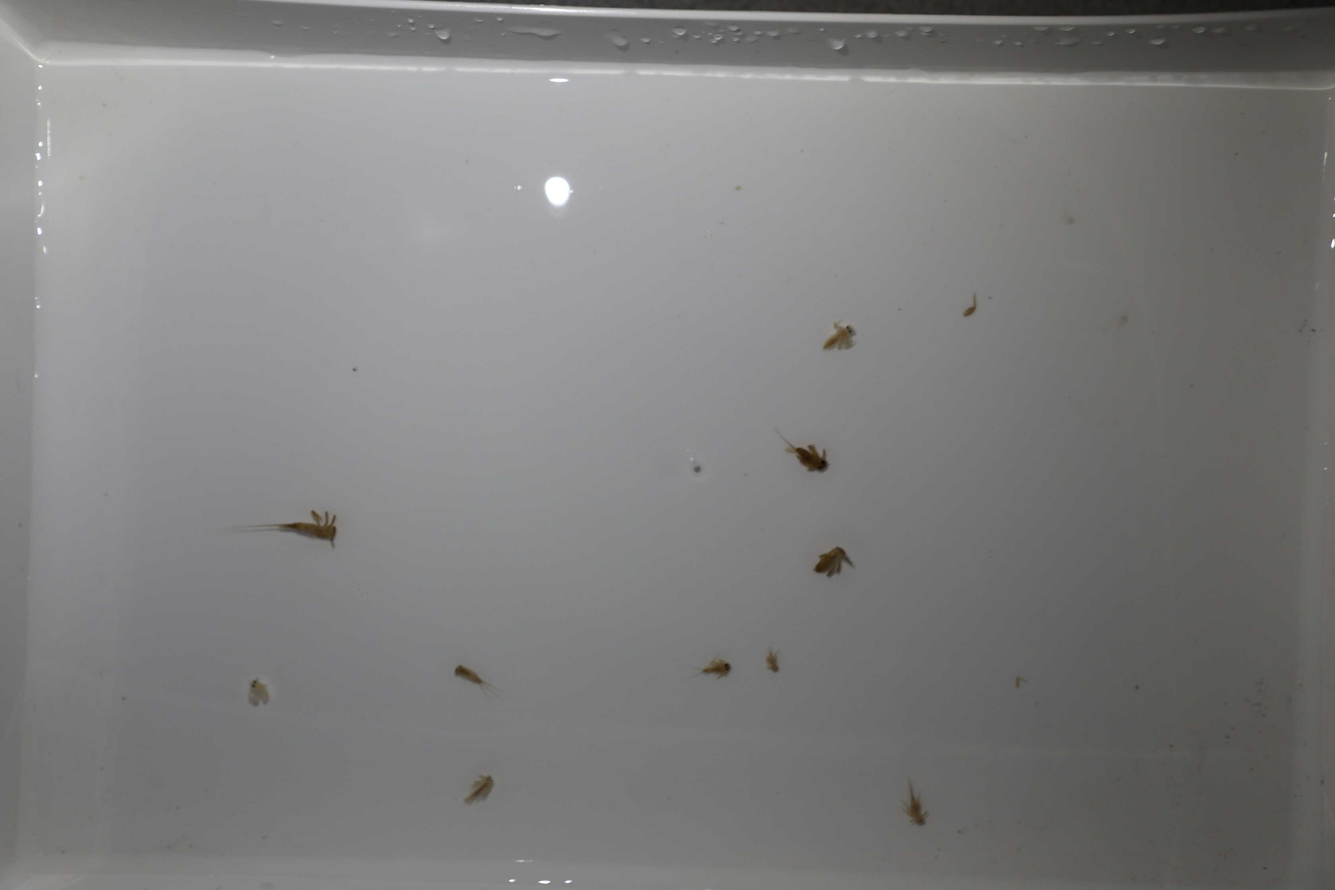Mayfly: (233, 504, 347, 558), (771, 423, 834, 481), (454, 660, 504, 705), (806, 542, 855, 586), (900, 774, 931, 832), (462, 769, 500, 811), (824, 315, 860, 355), (241, 674, 279, 710), (697, 654, 736, 682), (763, 641, 783, 682)
